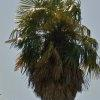Palm tree: (15, 2, 94, 100)
